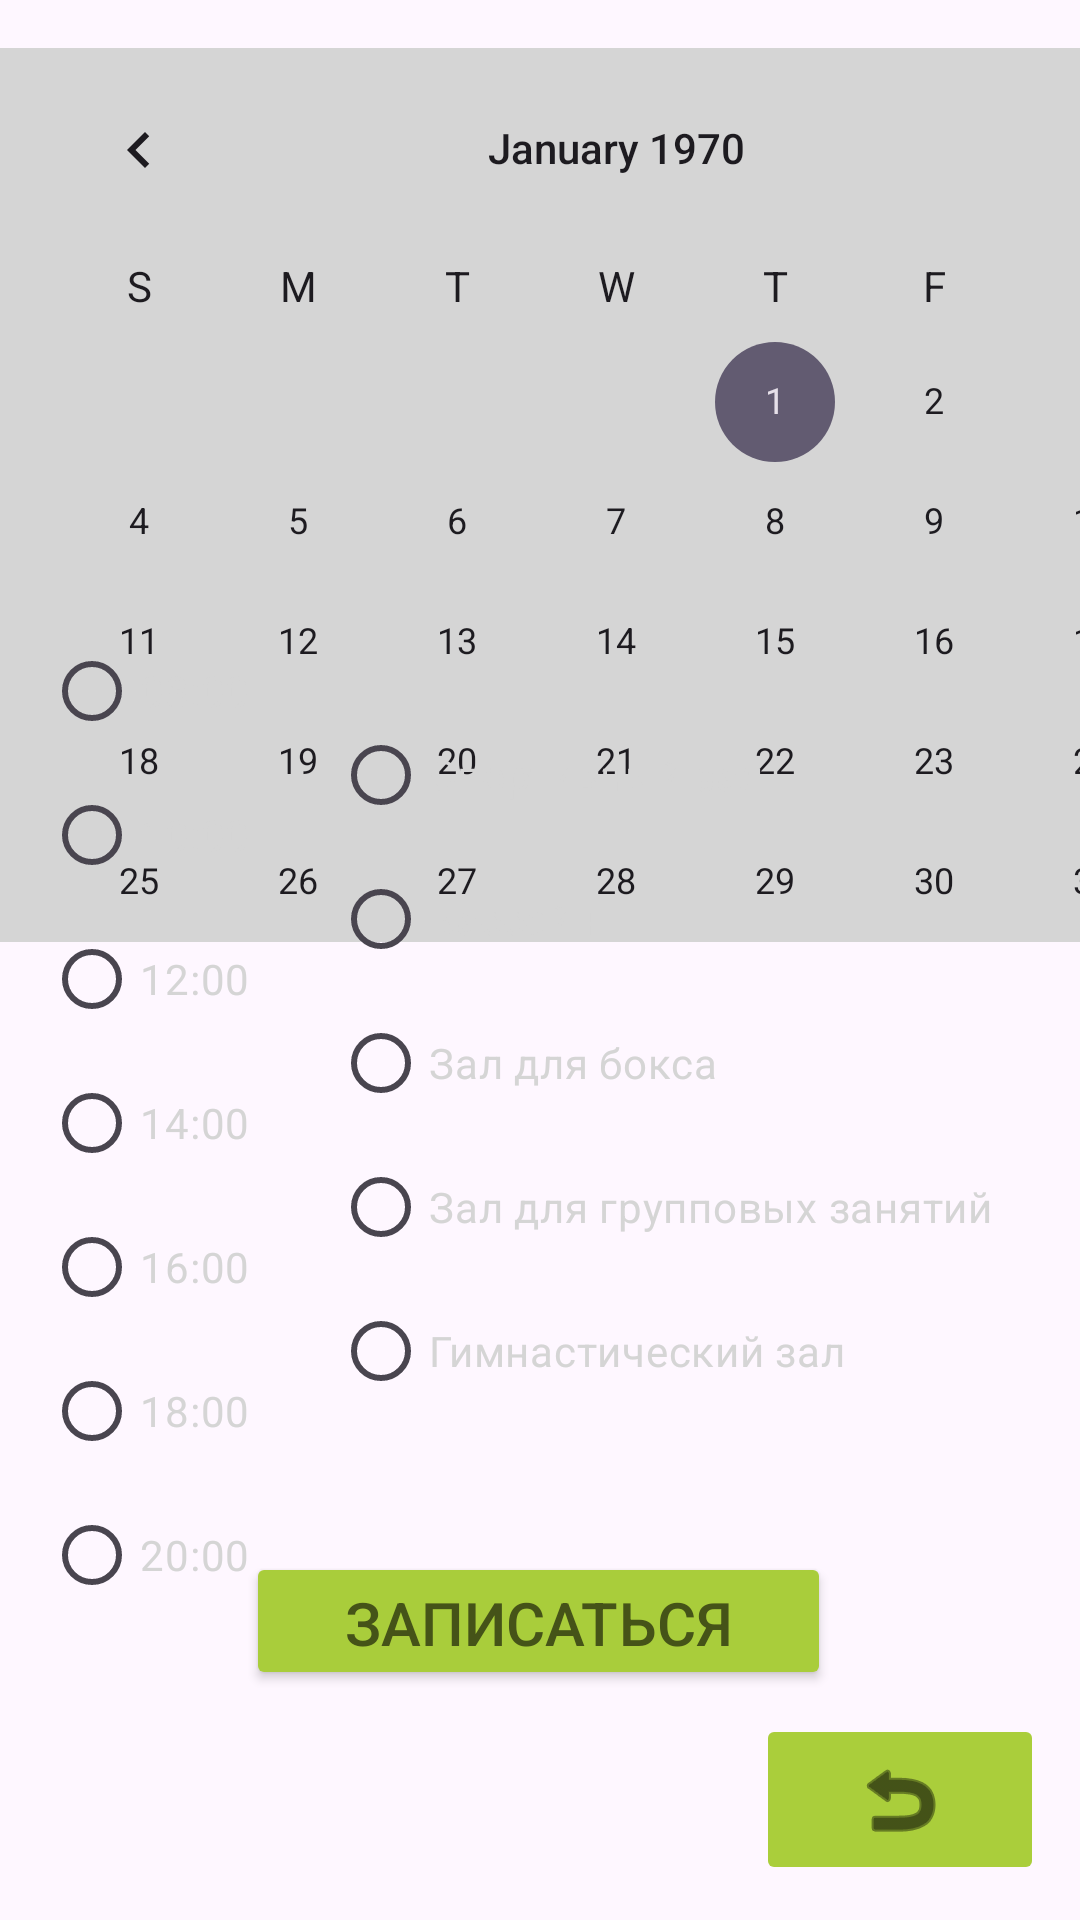

Icon bounding boxes for this 1080x1920 phone screenshot, format [x1=x1, y1=y1, x2=x2, y2=y2]:
revert: [x1=768, y1=1732, x2=1032, y2=1867]
